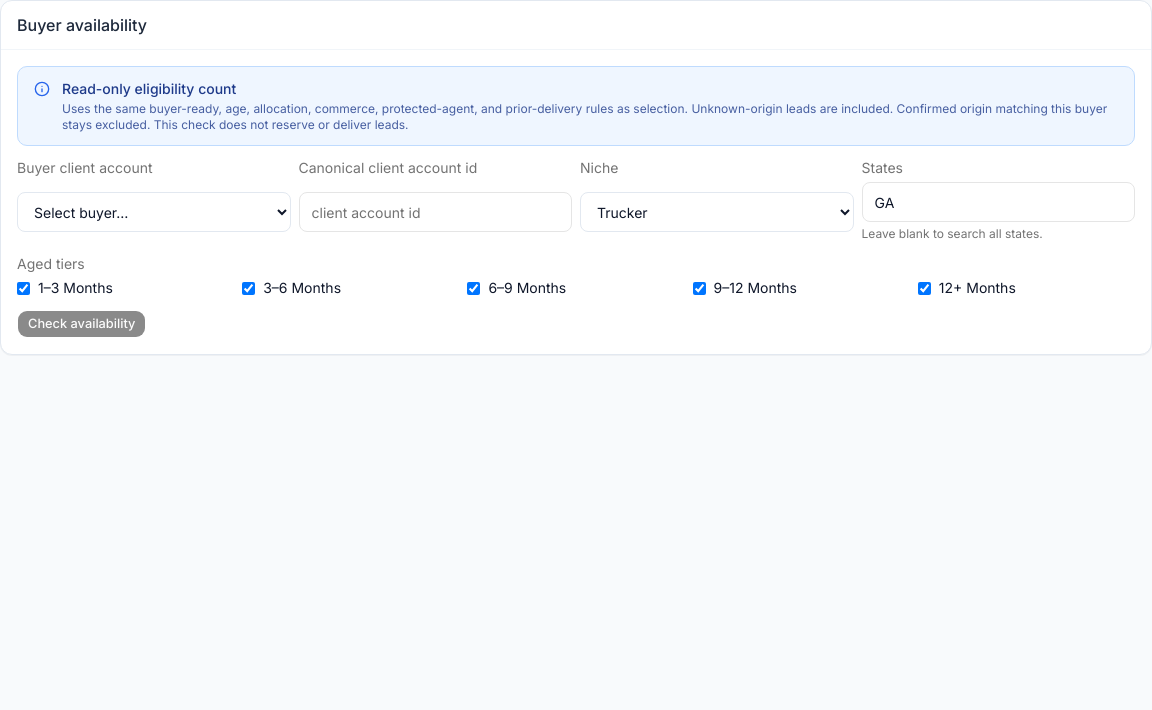
Test: BuyerAvailabilityPanel › labels an unfinished nationwide count as not a total
In the field with test id "buyer-availability-client-id": (435, 212) [298, 192, 572, 232], type "client_jr_laird"
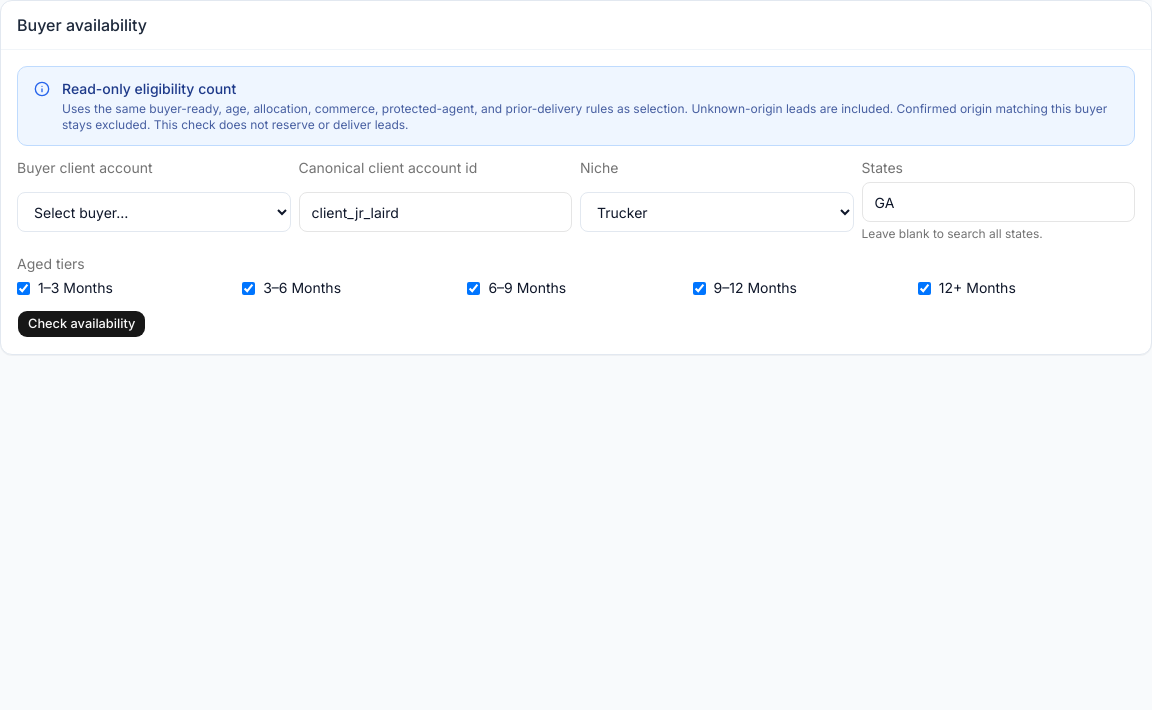
Clear the field with test id "buyer-availability-states": (998, 202) [862, 182, 1135, 222]
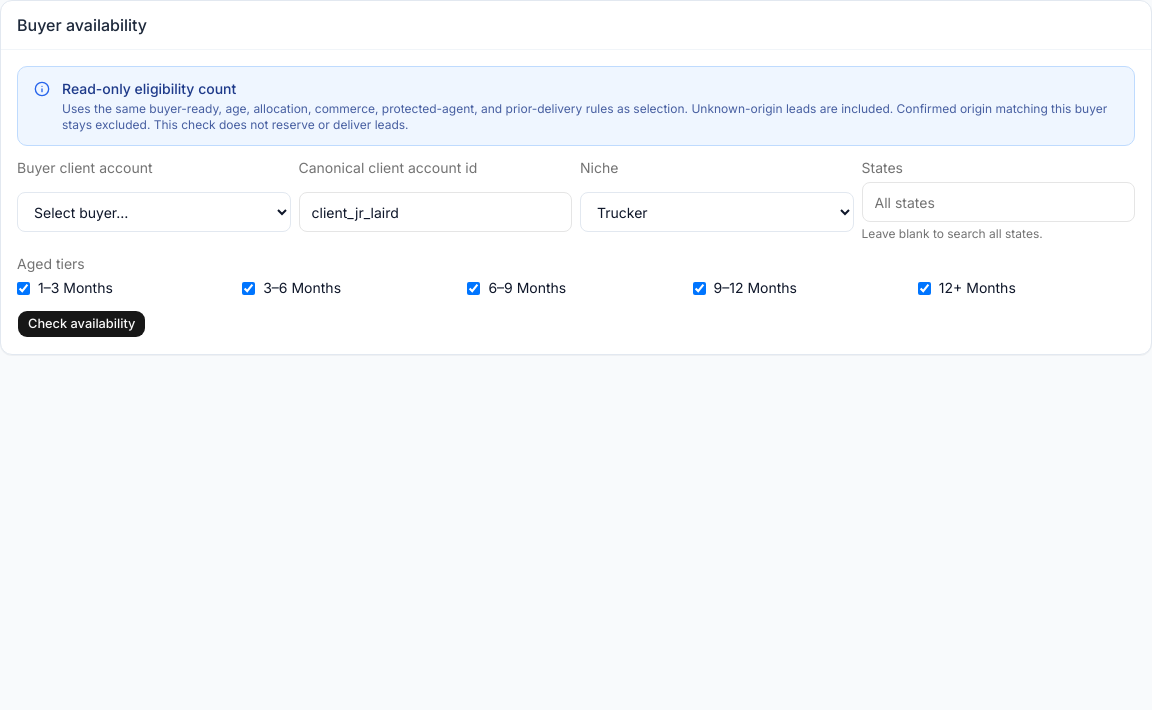
Click the button with test id "buyer-availability-submit": (82, 324) [17, 310, 146, 338]
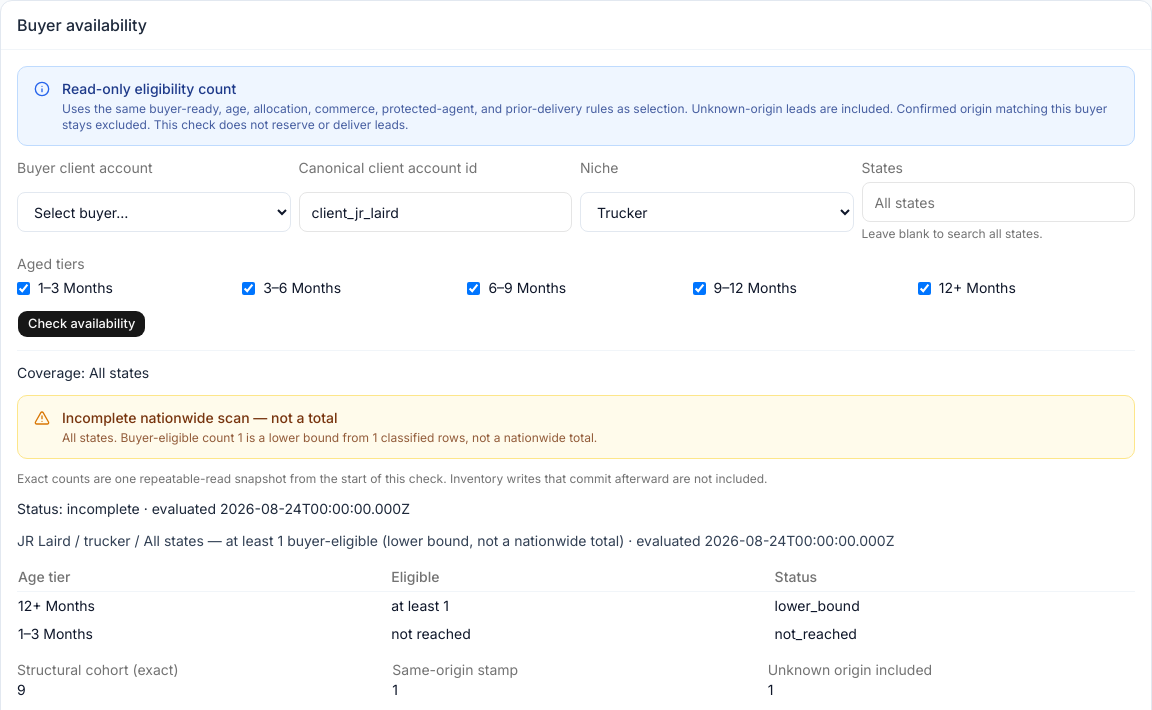
Expected: the text with test id "buyer-availability-total" shows "All states", [144, 532, 204, 549]
Expected: the text with test id "buyer-availability-total" shows "at least 1 buyer-eligible", [17, 532, 894, 549]
Expected: the text with test id "buyer-availability-total" shows "not a nationwide total", [378, 532, 624, 549]
